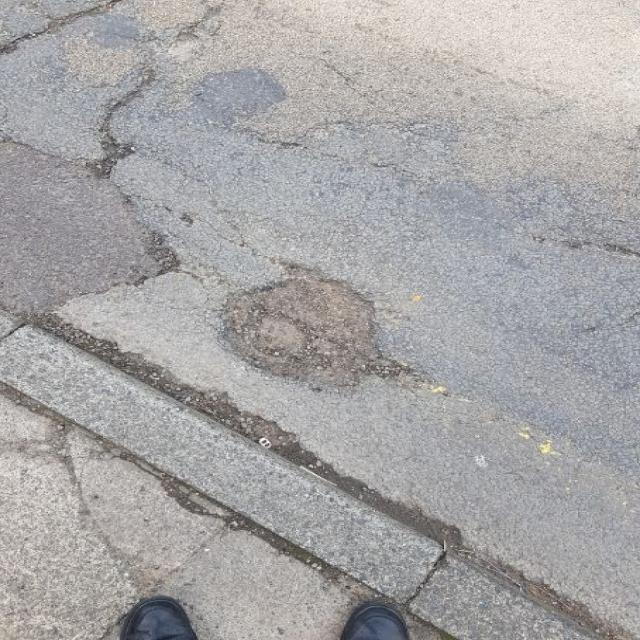pothole: (213, 257, 419, 386)
